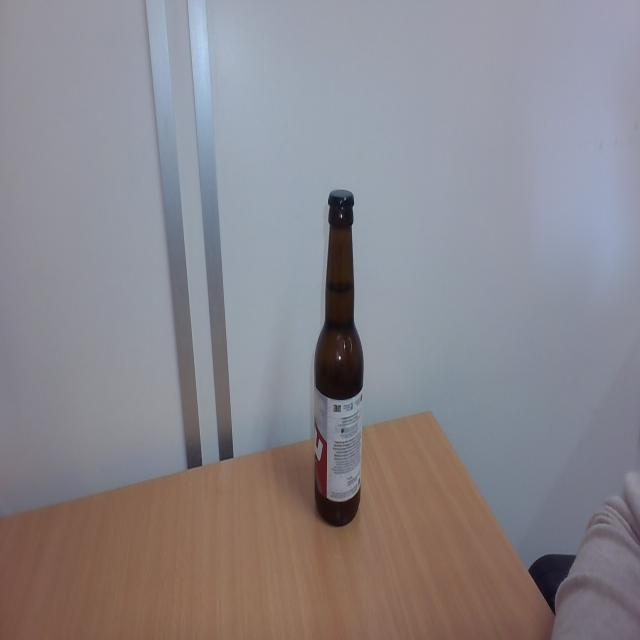Bottle: (313, 214, 365, 531)
Cap: (327, 188, 356, 212)
Label: (311, 392, 365, 502)
